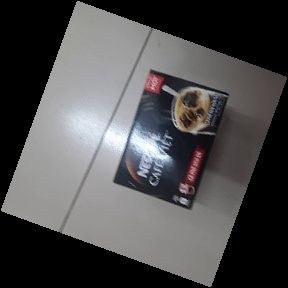CF Viet: (112, 67, 231, 212)
